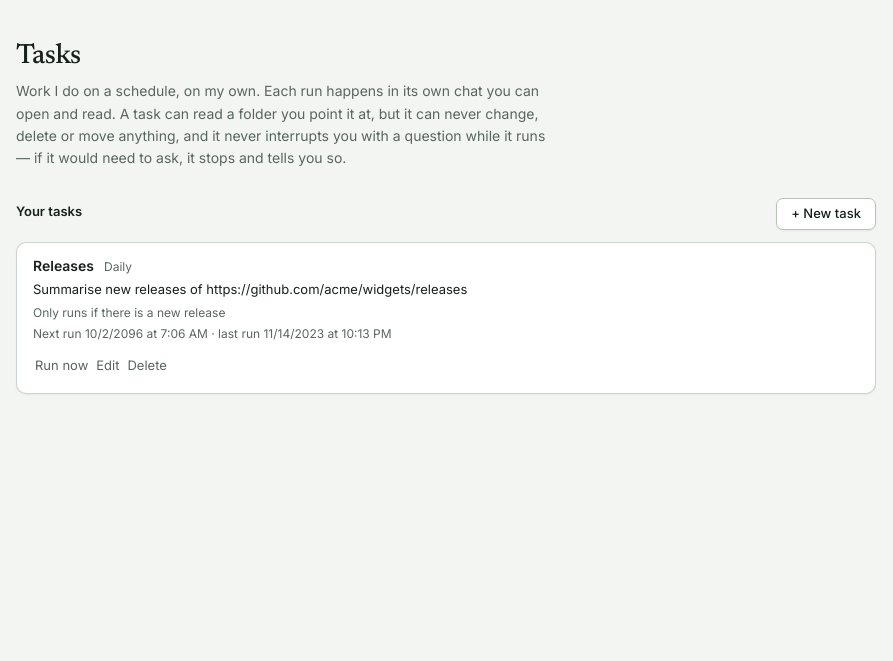
Test case: the Only run if field › is filled in when a task is edited
Step 1. Click the button "Edit" → click(108, 365), box [94, 351, 122, 379]
(page scrolled)
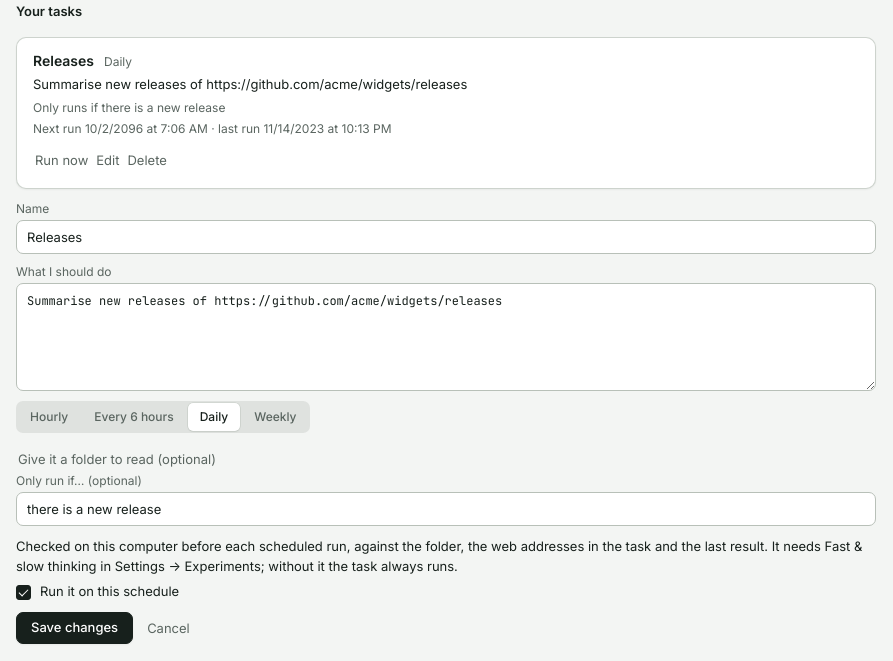
Now the field labelled "Only run if… (optional)" holds "there is a new release", box [16, 492, 876, 526]
